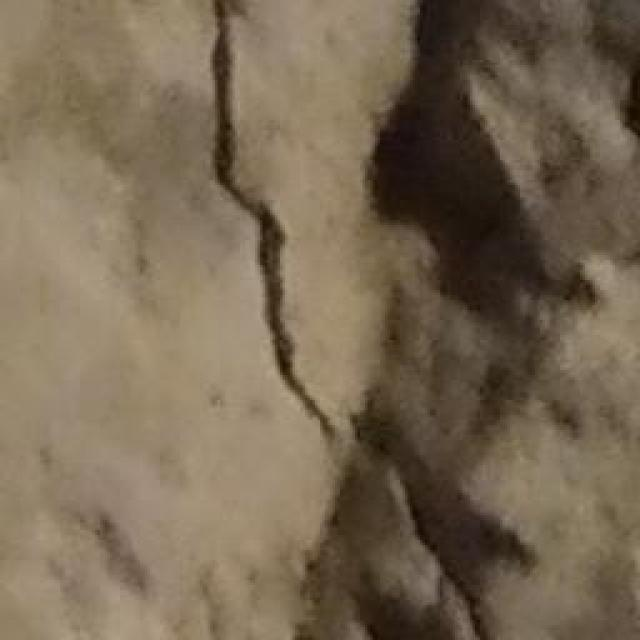Longitudinal: (180, 0, 482, 625)
